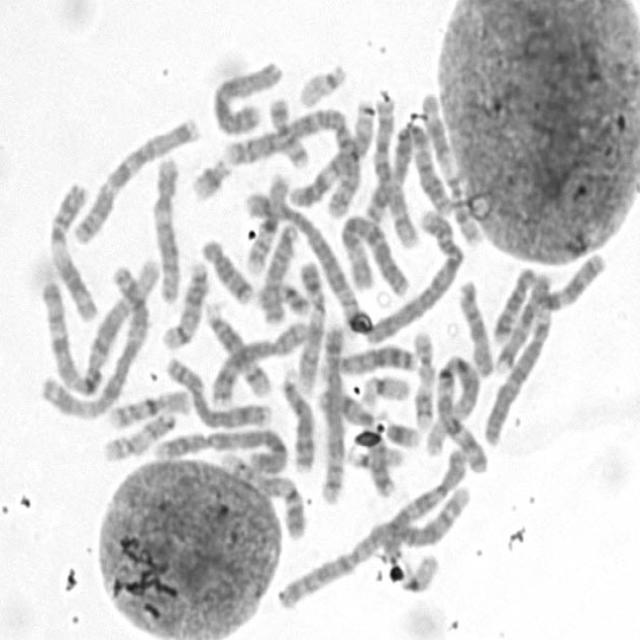A1: (36, 252, 158, 418), (429, 350, 493, 477)
A2: (273, 480, 477, 612), (221, 99, 367, 220)
A3: (36, 252, 158, 418), (362, 114, 454, 222)
B4: (362, 203, 468, 344), (149, 421, 291, 476)
B5: (244, 187, 366, 331), (316, 318, 347, 508)
C10: (376, 442, 469, 562), (369, 90, 422, 251)
C11: (417, 88, 484, 247), (43, 175, 101, 324)
C12: (284, 100, 374, 210), (150, 151, 185, 304)
C6: (481, 264, 558, 448), (334, 208, 415, 300)
C7: (68, 110, 202, 246), (488, 246, 608, 376)
C8: (206, 316, 310, 406), (162, 351, 272, 431)
C9: (215, 446, 307, 541), (292, 254, 327, 394)
D13: (277, 363, 318, 473), (326, 340, 419, 376)
D14: (200, 296, 272, 398), (158, 256, 212, 350)
D15: (255, 219, 301, 325), (454, 274, 496, 378)
E16: (242, 168, 293, 274), (105, 384, 194, 430)
E17: (98, 407, 178, 463), (408, 324, 437, 432)
E18: (197, 232, 255, 305), (490, 262, 539, 344)
F19: (392, 548, 441, 595), (357, 369, 412, 409)
F20: (264, 94, 310, 169), (253, 278, 313, 318)
G21: (187, 152, 232, 202), (380, 414, 423, 450)
G22: (294, 58, 349, 109), (343, 440, 406, 471)
X: (206, 54, 284, 136)
